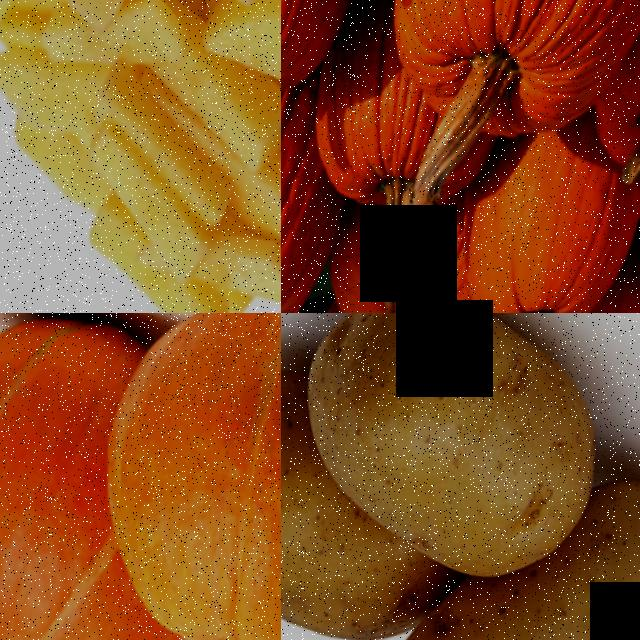potato: (289, 313, 629, 584), (79, 113, 249, 282), (365, 541, 640, 640), (281, 329, 323, 607), (201, 0, 281, 103), (209, 204, 281, 313)
pumpkin: (113, 313, 281, 640), (0, 313, 156, 640), (367, 0, 640, 159), (454, 121, 640, 313), (309, 64, 447, 217), (322, 219, 482, 313), (281, 120, 354, 313), (281, 0, 358, 118)
